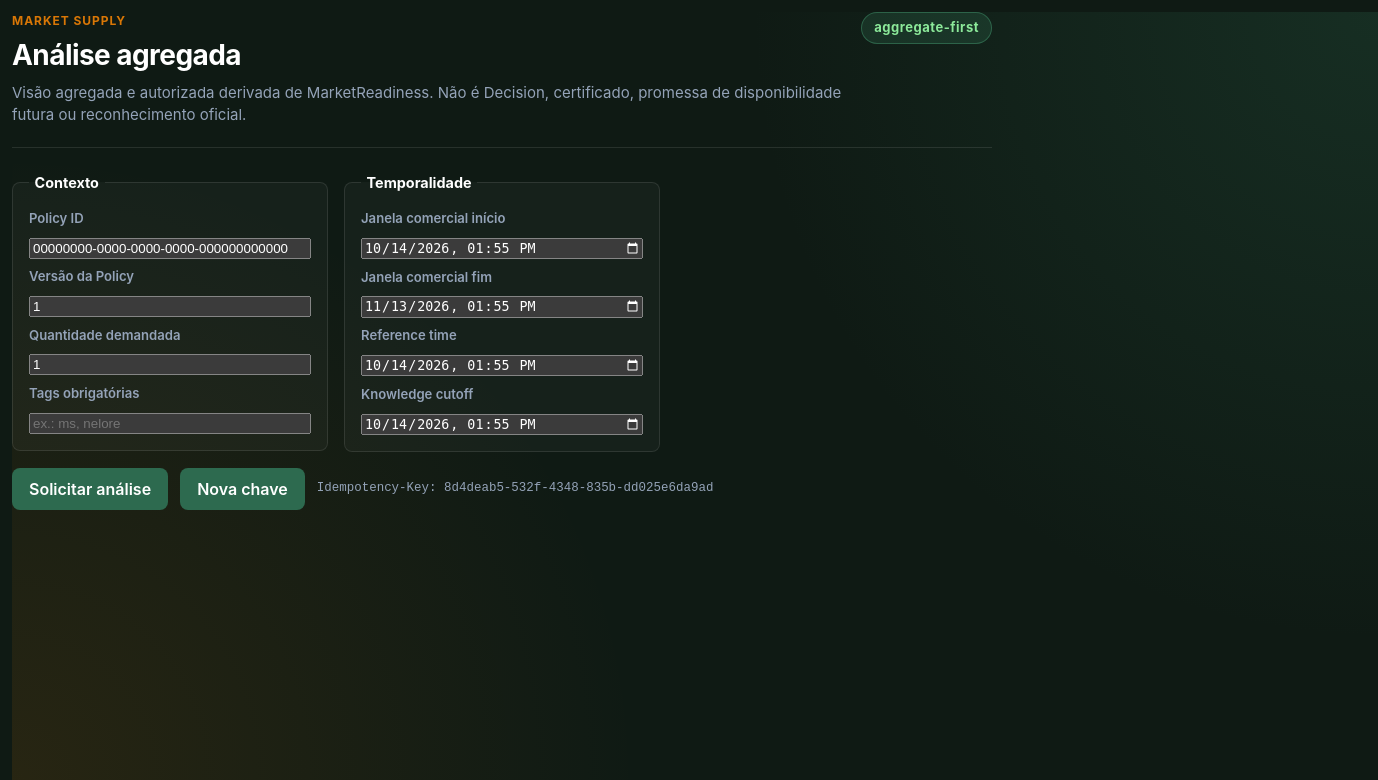
Test case: MarketSupplyAggregate › trata 503 como capacidade indisponível sem expor detalhe operacional bruto
Click the button "Solicitar análise". click: (90, 489)
box: [12, 468, 168, 510]
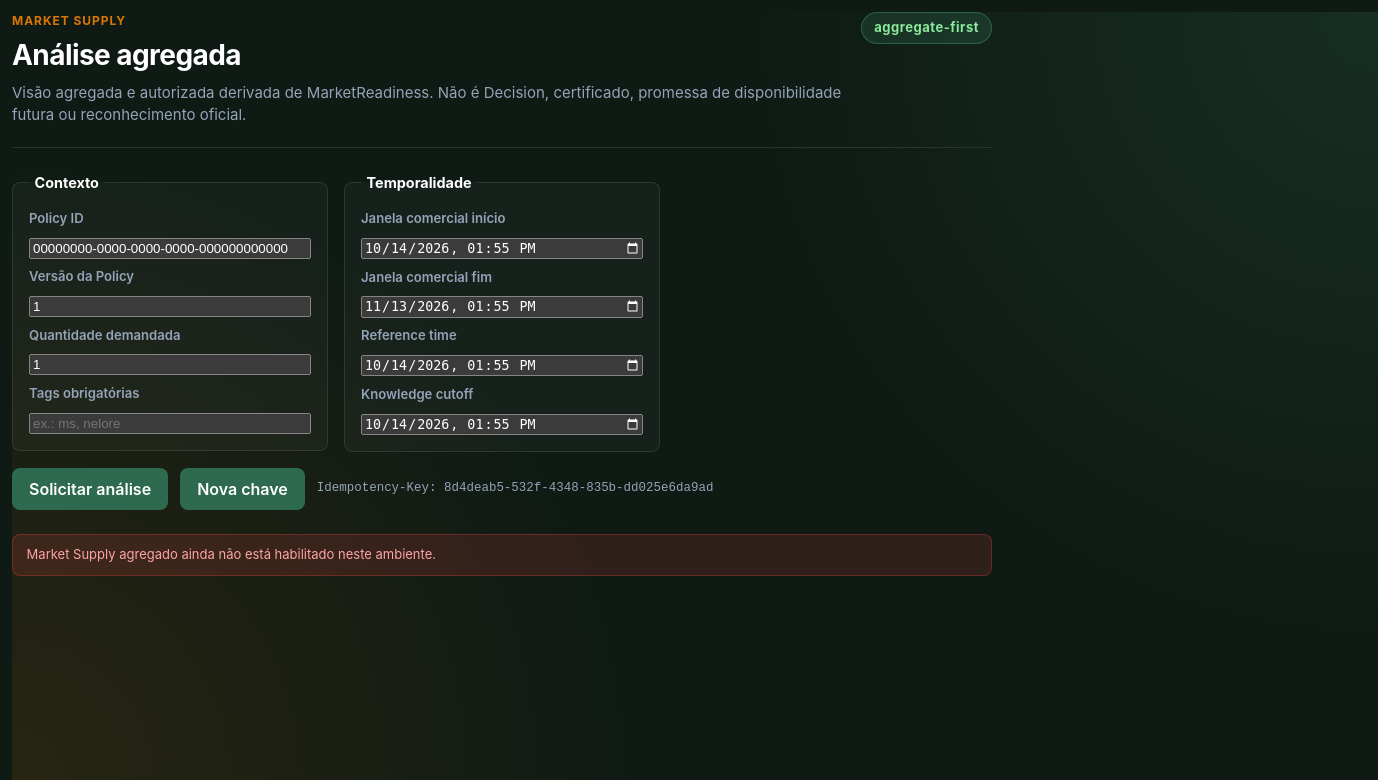
Expected: the message does not show "pipeline interno desligado", [12, 534, 992, 576]
Now the message shows "não está habilitado", box [27, 546, 436, 562]
